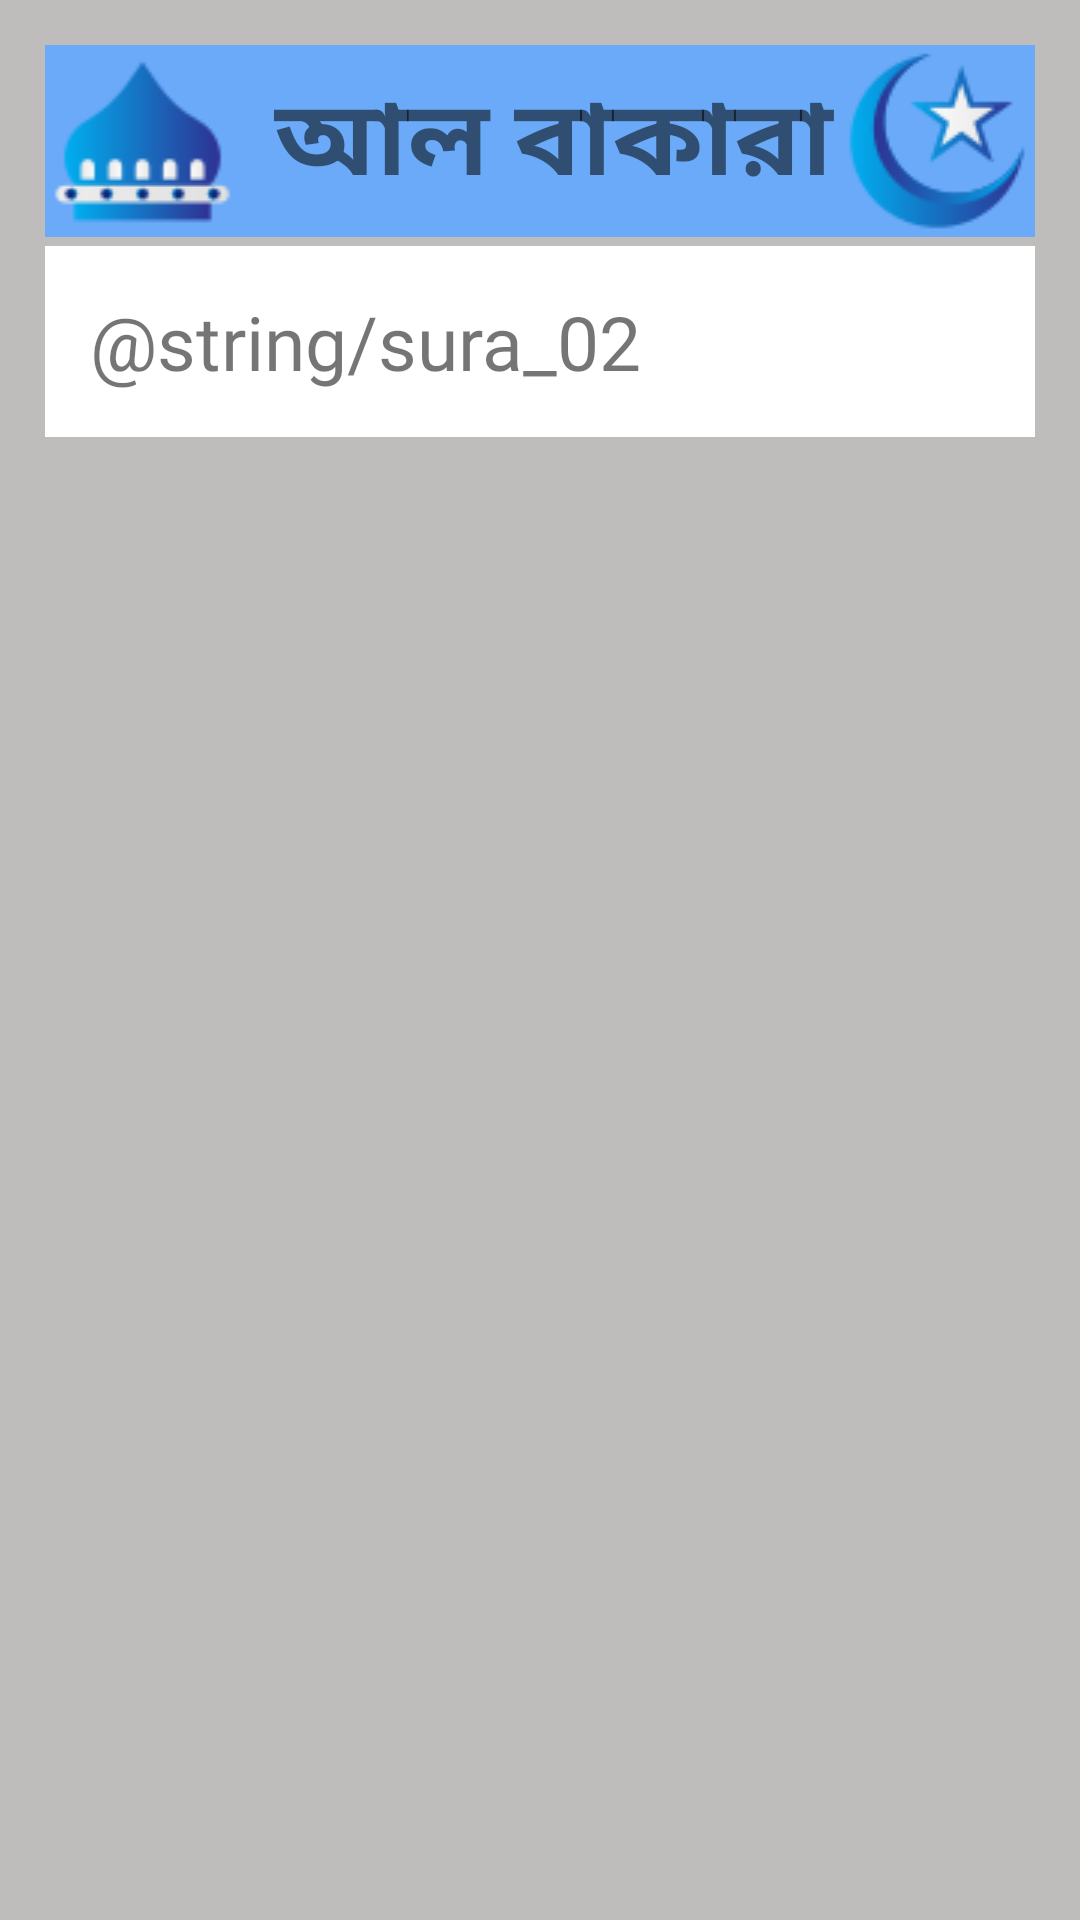

Where icons sit on this 1080px×1920px app screen, as (x1, y1, x2, y2):
star: (839, 45, 1035, 237)
